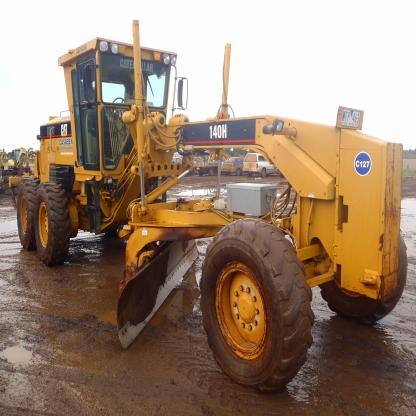bull_dozer/loader/grader: (10, 31, 408, 388)
